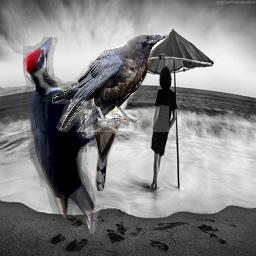Crow: (52, 33, 169, 132)
Cuckoo: (91, 74, 136, 191)
Woodpecker: (23, 37, 114, 234)
